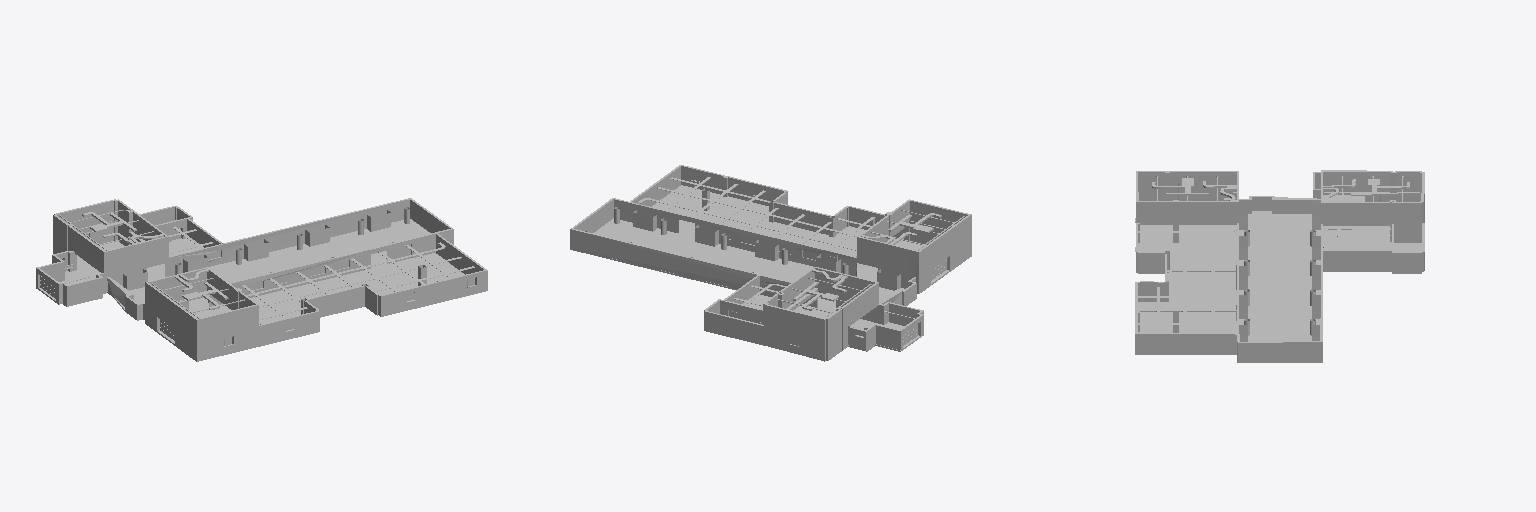
The model's file is iilabnoroof_scaled.obj.
3 renders of one model, left to right at view 1: azimuth 30°, elevation 25°; view 2: azimuth 150°, elevation 25°; view 3: azimuth 270°, elevation 25°, orthographic.
Parts seen in each view (by area): view 1: Wall1, Floor, Wall3.001, Wall4.001, Wall2, CealingFrame, Shafts, Ventilation, Ventilation_001; view 2: Wall1, Floor, Wall3.001, Wall4.001, Wall2, CealingFrame, Shafts, Ventilation, Ventilation_001; view 3: Floor, Wall1, Wall3.001, Wall4.001, CealingFrame, Shafts, Wall2, Ventilation_001, Ventilation.
Boxes of the visible parts, <box> form: Wall1: <box>53,198,453,297</box>; Floor: <box>36,219,487,361</box>; Wall3.001: <box>145,267,260,359</box>; Wall4.001: <box>261,233,487,344</box>; Wall2: <box>36,251,144,318</box>; CealingFrame: <box>175,242,474,324</box>; Shafts: <box>123,210,390,290</box>; Ventilation: <box>82,212,163,244</box>; Ventilation_001: <box>175,269,228,309</box>; Wall1: <box>570,198,878,359</box>; Floor: <box>570,185,971,361</box>; Wall3.001: <box>857,199,971,292</box>; Wall4.001: <box>630,165,903,237</box>; Wall2: <box>848,277,923,350</box>; CealingFrame: <box>638,177,875,256</box>; Shafts: <box>633,210,900,290</box>; Ventilation: <box>793,269,847,310</box>; Ventilation_001: <box>861,213,941,244</box>; Floor: <box>1135,195,1421,362</box>; Wall1: <box>1236,171,1424,361</box>; Wall3.001: <box>1136,171,1238,242</box>; Wall4.001: <box>1135,224,1236,353</box>; CealingFrame: <box>1138,198,1236,332</box>; Shafts: <box>1239,206,1320,341</box>; Wall2: <box>1239,170,1380,213</box>; Ventilation_001: <box>1152,178,1236,200</box>; Ventilation: <box>1323,179,1410,201</box>.
Size of the model in its own units: 69.77 by 7.98 by 49.64.